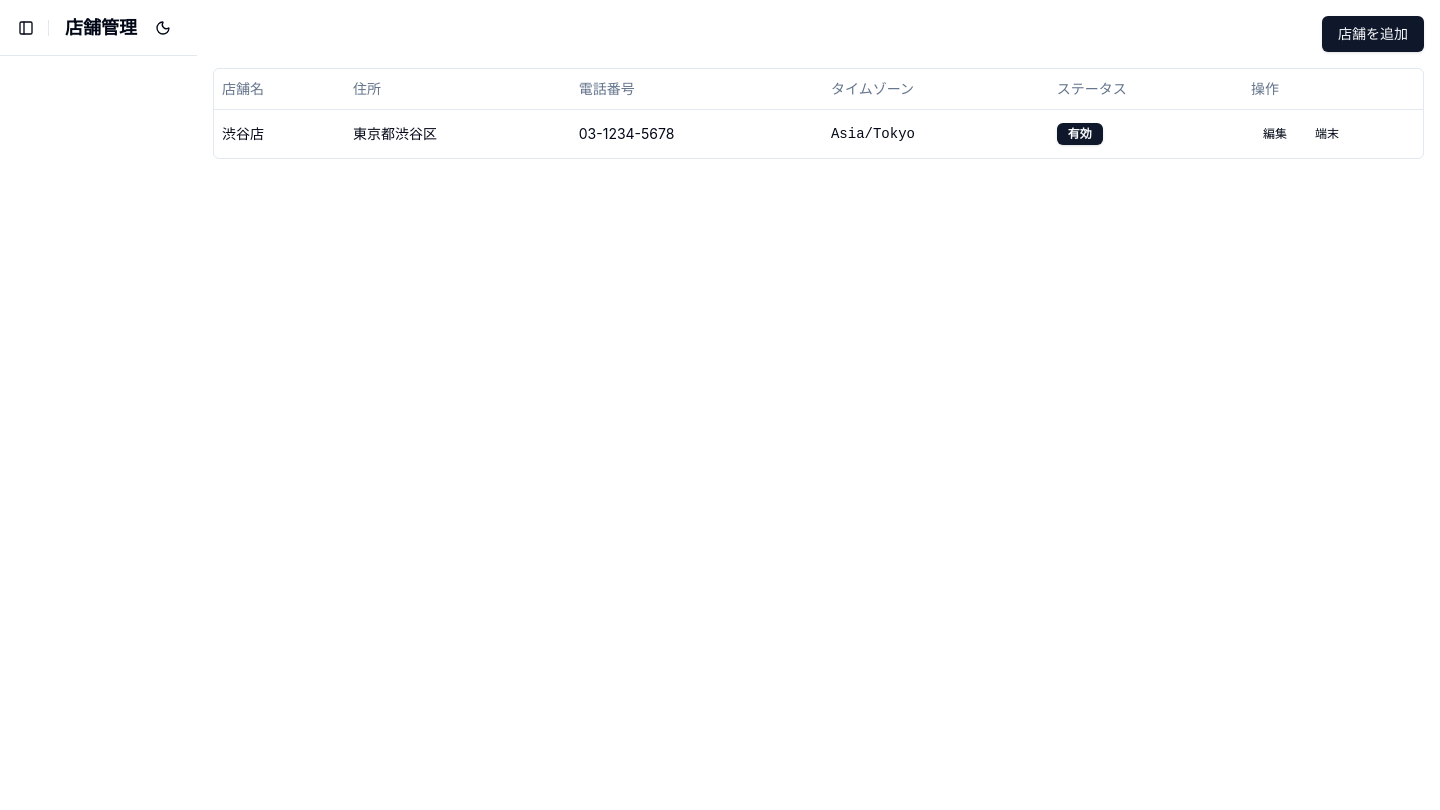
Scenario: StoresPage › 店舗を追加ボタンでダイアログが開く
The image size is (1440, 810).
Check: the text "渋谷店" is shown, box [214,109,345,158]
Click the button "店舗を追加". click: (1373, 34)
box: [1322,16,1424,52]
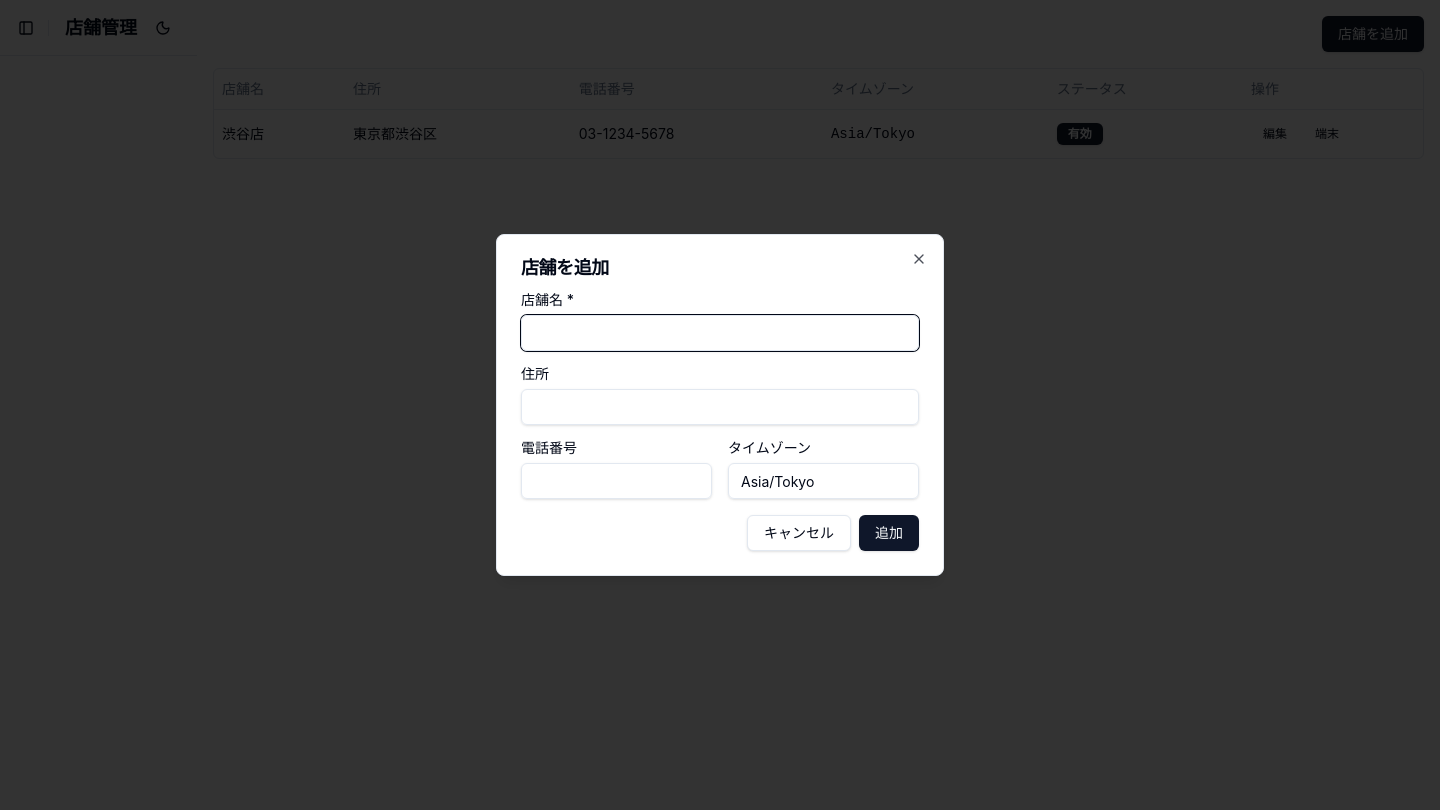
Check: the heading "店舗を追加" is shown, box [521,257,609,278]
